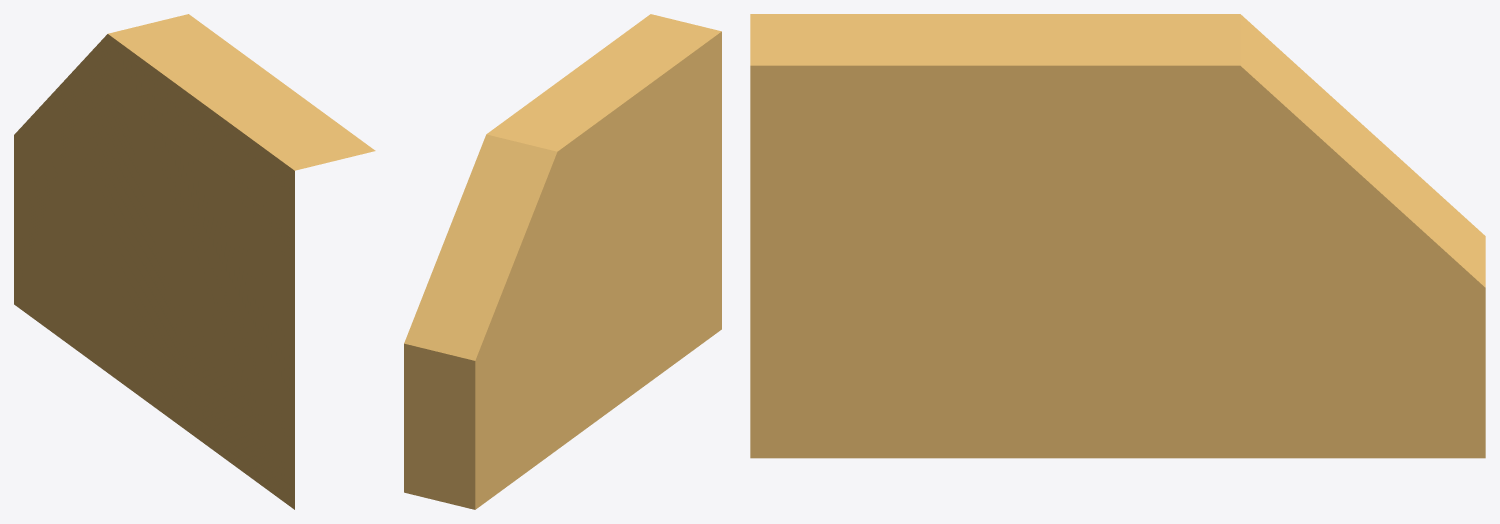
The picture shows the model from 3 angles, left to right: view 1: azimuth 30°, elevation 25°; view 2: azimuth 150°, elevation 25°; view 3: azimuth 270°, elevation 25°; orthographic projection. The views are drawn at different scales.
Bounding box in the file's own units: 0.1 × 0.4 × 0.6.
